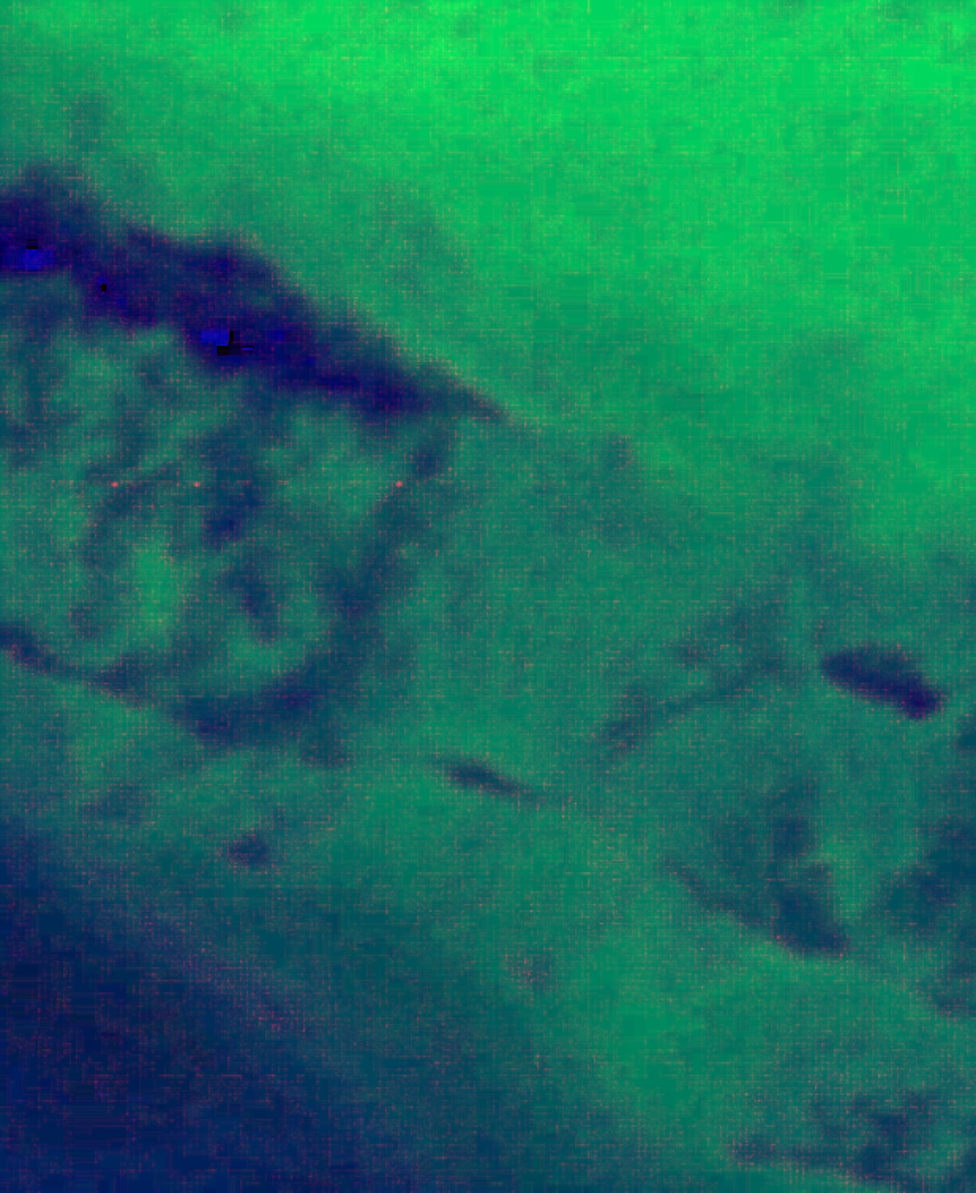rip_current: (278, 338, 772, 1027)
